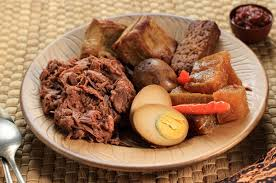Gudeg: (33, 12, 254, 146)
